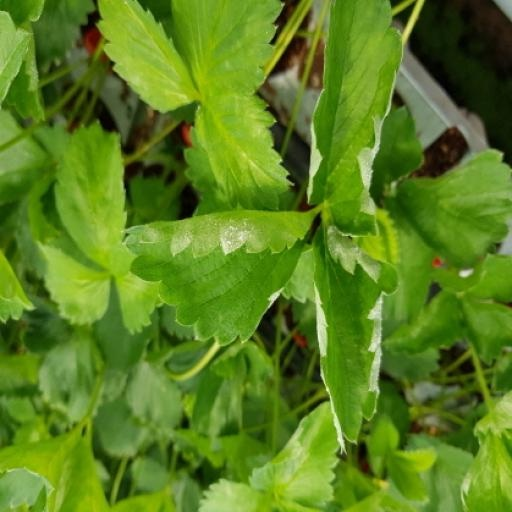Powdery Mildew Leaf: (196, 166, 392, 303), (107, 274, 207, 511), (110, 57, 199, 290), (468, 390, 510, 486)
